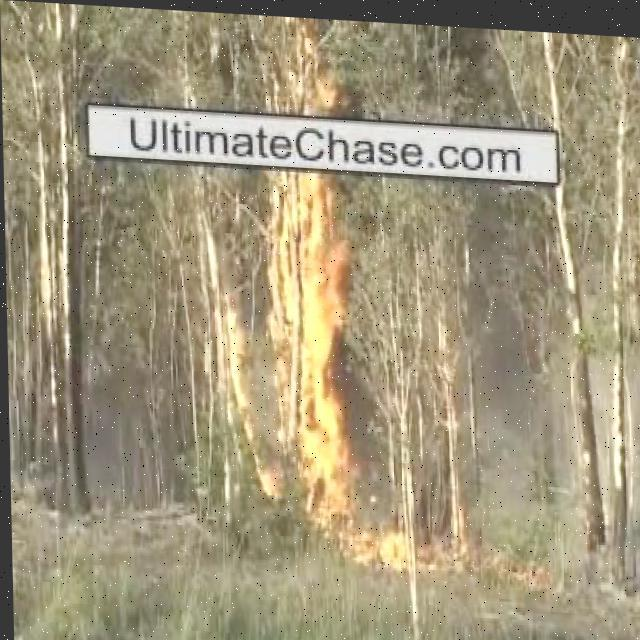Fire: (258, 18, 408, 560)
